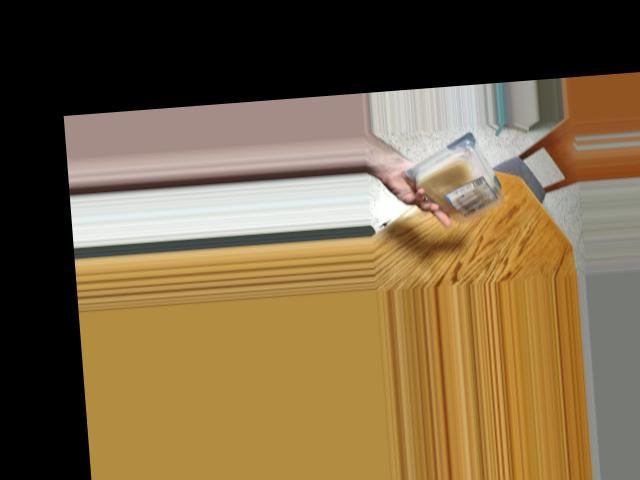cheese: (408, 141, 510, 224)
